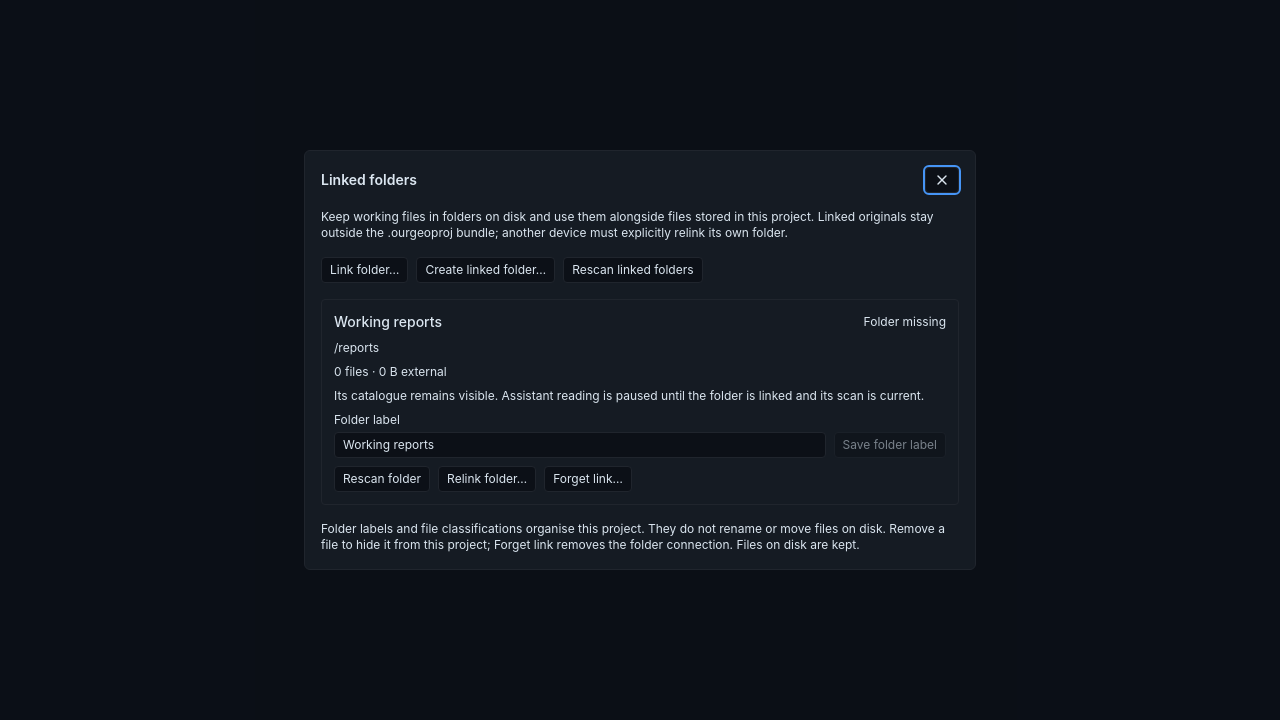
Test: reviews forgetting a link explicitly and never acts on a cancelled confirmation
The image size is (1280, 720).
Click the button "Forget link…".
click(588, 479)  # box [544,466,632,492]
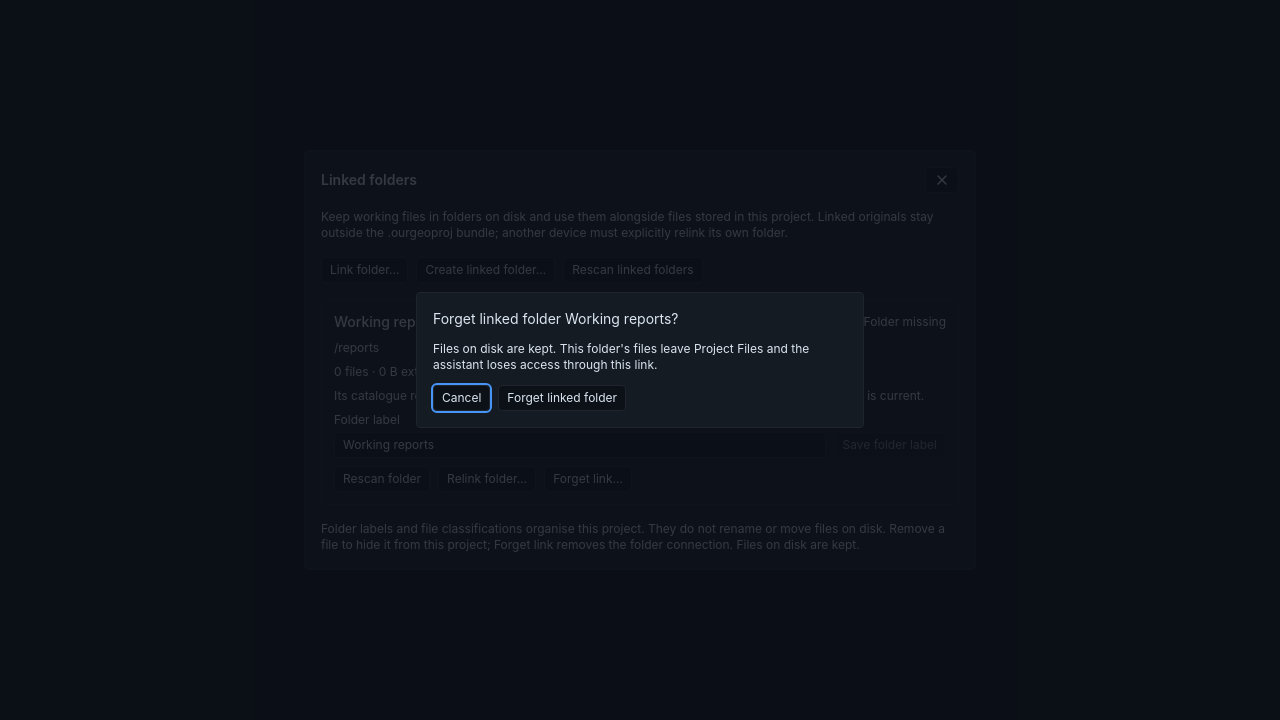
Expected: the text "Files on disk are kept" is shown, [433,341,809,372]
Click the button "Cancel".
click(462, 398)  # box [433,385,490,411]
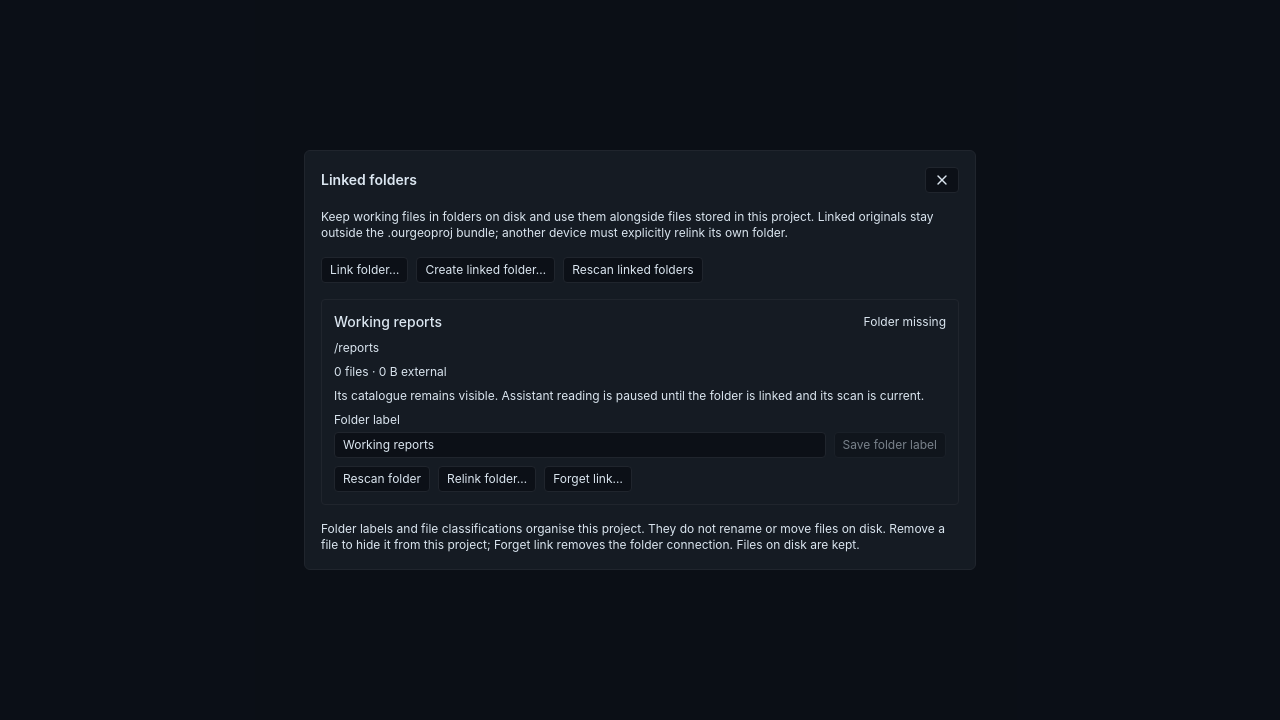
Click the button "Forget link…".
click(588, 479)  # box [544,466,632,492]
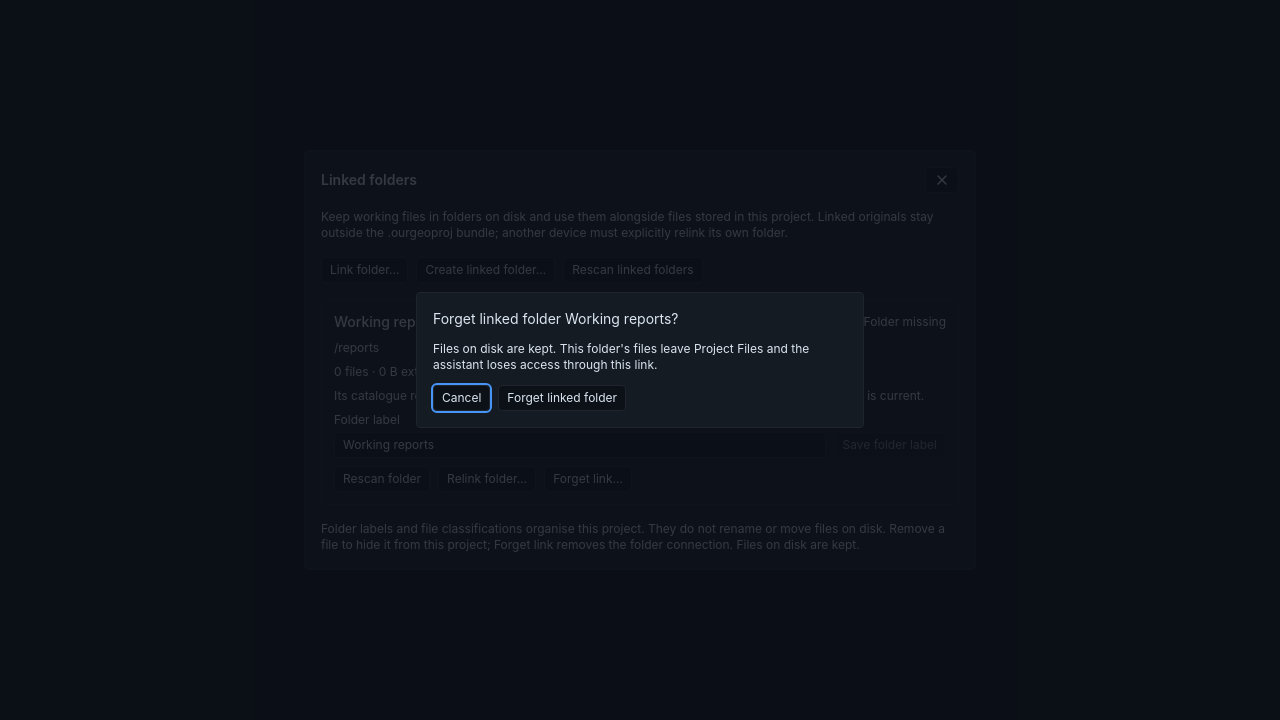
Click the button "Forget linked folder".
click(562, 398)  # box [498,385,626,411]
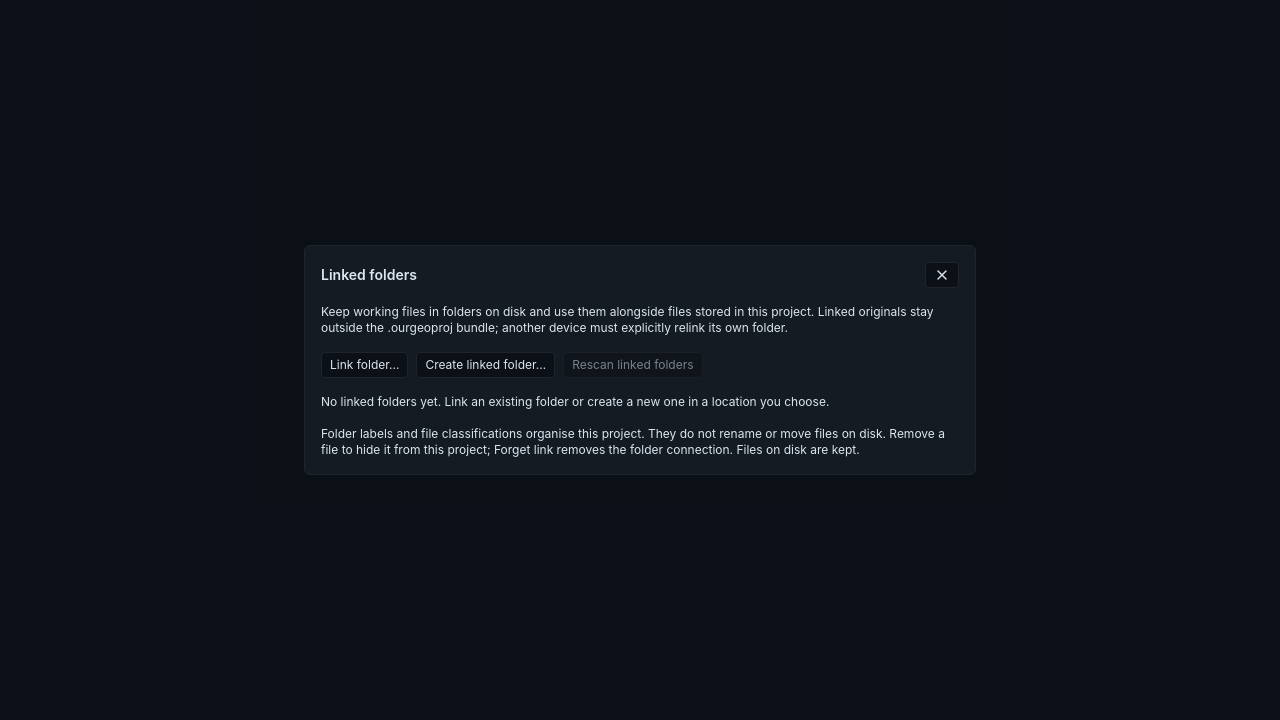
Expected: the heading "linked folder Working reports" is gone
